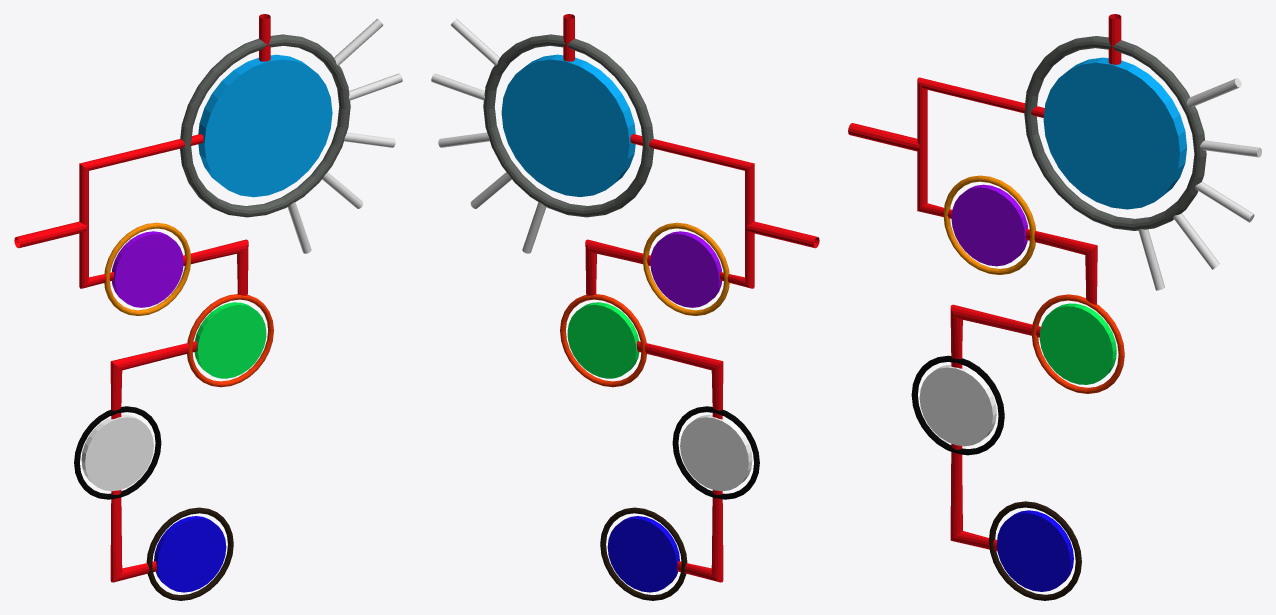
The model's file is 5 vite.FBX.
The picture shows the model from 3 angles, left to right: view 1: azimuth 30°, elevation 25°; view 2: azimuth 150°, elevation 25°; view 3: azimuth 330°, elevation 25°; orthographic projection. The views are drawn at different scales.
Parts seen in each view (by area): view 1: Cerchio Vita, Struttura, Object001, PowerUp_04, PowerUp_01, PowerUp_02, PowerUp_03, Cylinder001, Anello_04, Anello_01, Anello_02, Anello_03; view 2: Cerchio Vita, Struttura, Object001, PowerUp_04, PowerUp_01, PowerUp_02, PowerUp_03, Cylinder001, Anello_04, Anello_01, Anello_02, Anello_03; view 3: Cerchio Vita, Struttura, Object001, PowerUp_02, PowerUp_04, PowerUp_03, PowerUp_01, Cylinder001, Anello_04, Anello_01, Anello_03, Anello_02.
Part boxes in pixels (<box>): Cerchio Vita: <box>198,54,332,197</box>; Struttura: <box>14,14,270,582</box>; Object001: <box>180,34,350,217</box>; PowerUp_04: <box>154,516,226,592</box>; PowerUp_01: <box>112,231,183,307</box>; PowerUp_02: <box>194,302,266,378</box>; PowerUp_03: <box>81,414,153,491</box>; Cylinder001: <box>287,19,402,253</box>; Anello_04: <box>146,507,233,600</box>; Anello_01: <box>104,222,190,315</box>; Anello_02: <box>187,294,273,387</box>; Anello_03: <box>74,406,161,499</box>; Cerchio Vita: <box>501,54,635,196</box>; Struttura: <box>563,14,819,582</box>; Object001: <box>483,34,653,217</box>; PowerUp_04: <box>607,516,679,592</box>; PowerUp_01: <box>650,231,721,307</box>; PowerUp_02: <box>567,302,639,378</box>; PowerUp_03: <box>680,414,752,491</box>; Cylinder001: <box>431,19,546,253</box>; Anello_04: <box>600,507,687,600</box>; Anello_01: <box>643,222,729,315</box>; Anello_02: <box>560,294,646,387</box>; Anello_03: <box>672,406,759,499</box>; Cerchio Vita: <box>1043,57,1186,209</box>; Struttura: <box>848,14,1121,551</box>; Object001: <box>1024,36,1206,230</box>; PowerUp_02: <box>1039,303,1116,384</box>; PowerUp_04: <box>996,510,1073,591</box>; PowerUp_03: <box>919,365,996,446</box>; PowerUp_01: <box>951,184,1027,266</box>; Cylinder001: <box>1138,78,1261,290</box>; Anello_04: <box>989,501,1081,600</box>; Anello_01: <box>943,175,1035,274</box>; Anello_03: <box>911,355,1004,455</box>; Anello_02: <box>1031,294,1124,393</box>.
Bounding box in the file's own units: 144 × 203 × 4.37.
